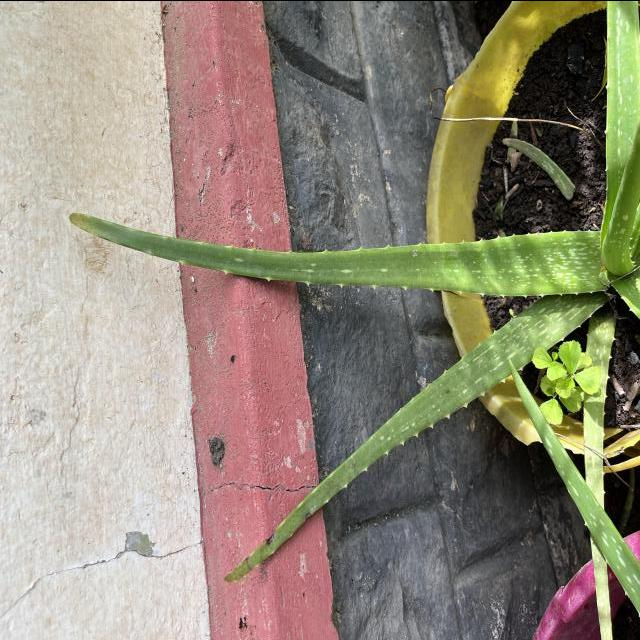Aloe vera: (64, 202, 614, 300)
